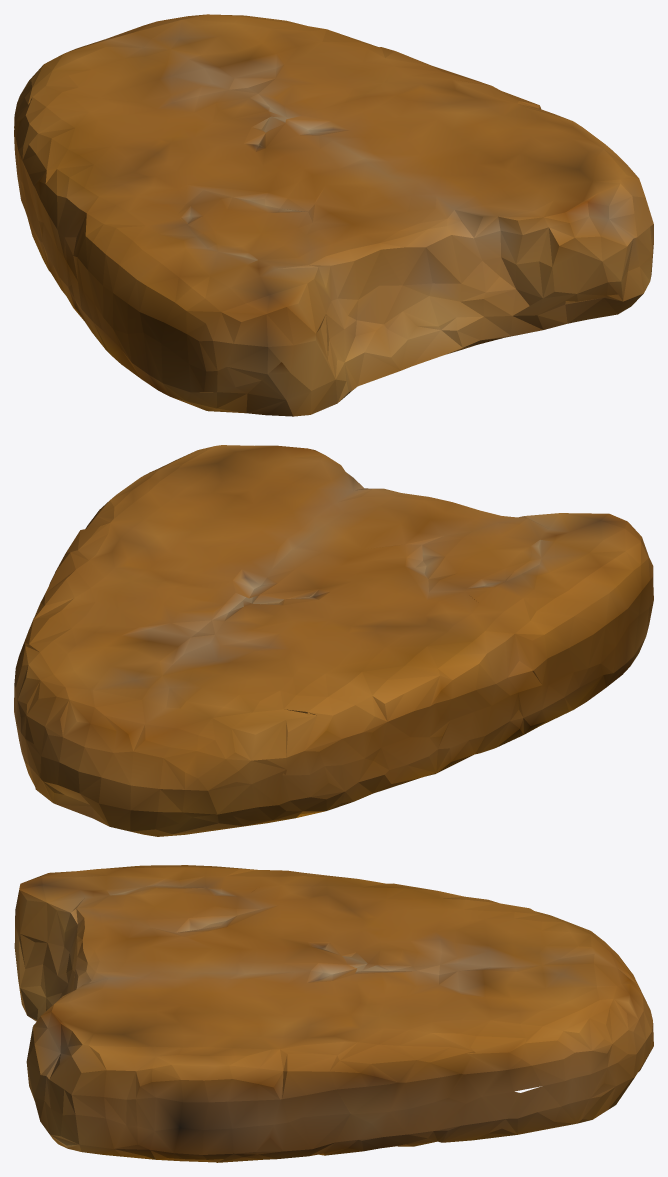
Rendered from colonial-artifact.gltf.
3 views of the same model, one above another, from view 1: azimuth 30°, elevation 25°; view 2: azimuth 150°, elevation 25°; view 3: azimuth 270°, elevation 25° (orthographic). The views are drawn at different scales.
Parts seen in each view (by area): view 1: colonial-artifact; view 2: colonial-artifact; view 3: colonial-artifact.
Boxes of the visible parts, x1,y1,x2,y2 form: colonial-artifact: (14,14,653,416); colonial-artifact: (14,445,653,836); colonial-artifact: (14,865,653,1162).
Bounding box in the file's own units: 0.0734 × 0.0188 × 0.09.
